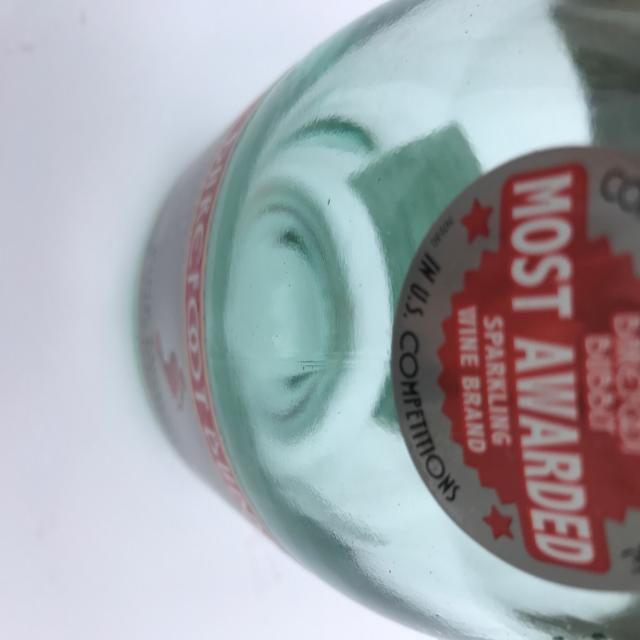glass: (135, 0, 639, 639)
